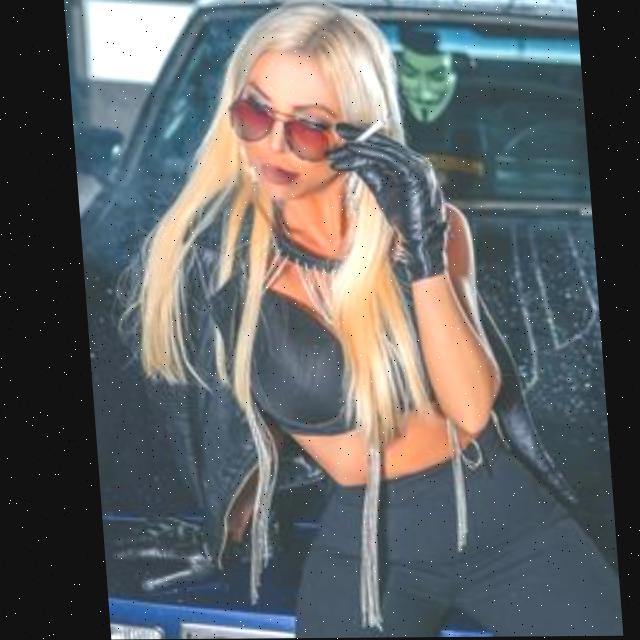cigarette: (354, 121, 385, 141)
